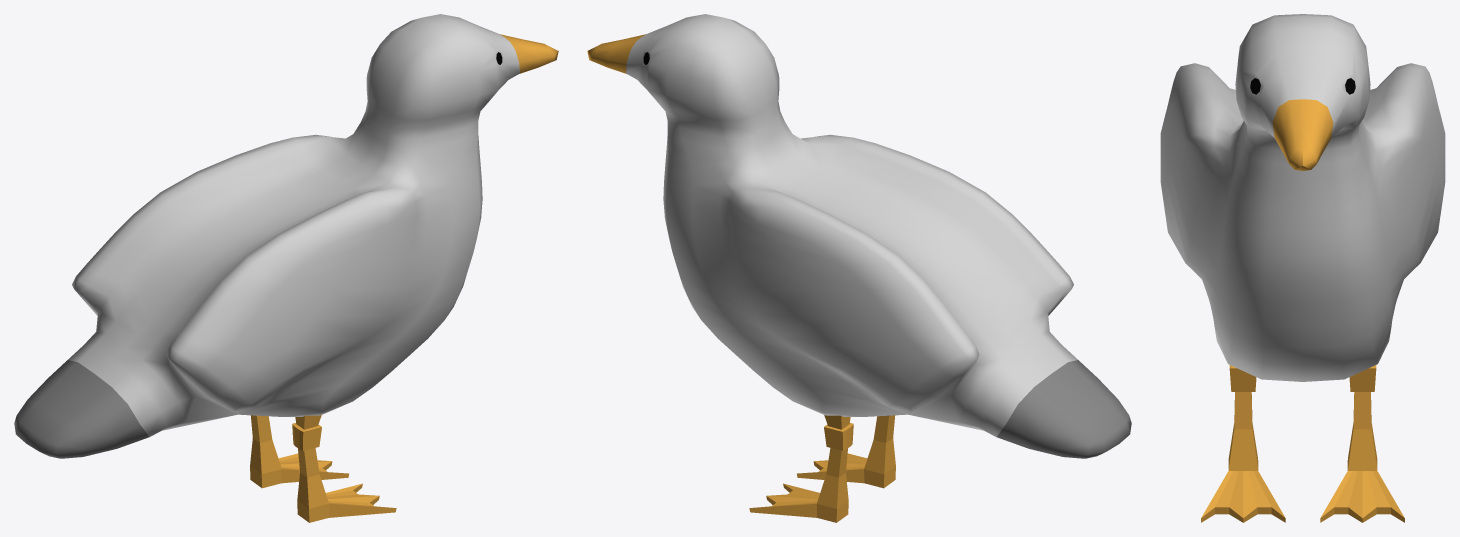
Rendered from Gaviota.fbx.
The picture shows the model from 3 angles, left to right: view 1: azimuth 30°, elevation 25°; view 2: azimuth 150°, elevation 25°; view 3: azimuth 270°, elevation 25°; orthographic projection. The views are drawn at different scales.
Parts seen in each view (by area): view 1: Cube; view 2: Cube; view 3: Cube.
Boxes of the visible parts, box(x1,y1,x2,y2) form: Cube: box(14, 14, 558, 522); Cube: box(587, 14, 1131, 522); Cube: box(1160, 14, 1445, 522).
Bounding box in the file's own units: 263 × 208 × 96.69.
